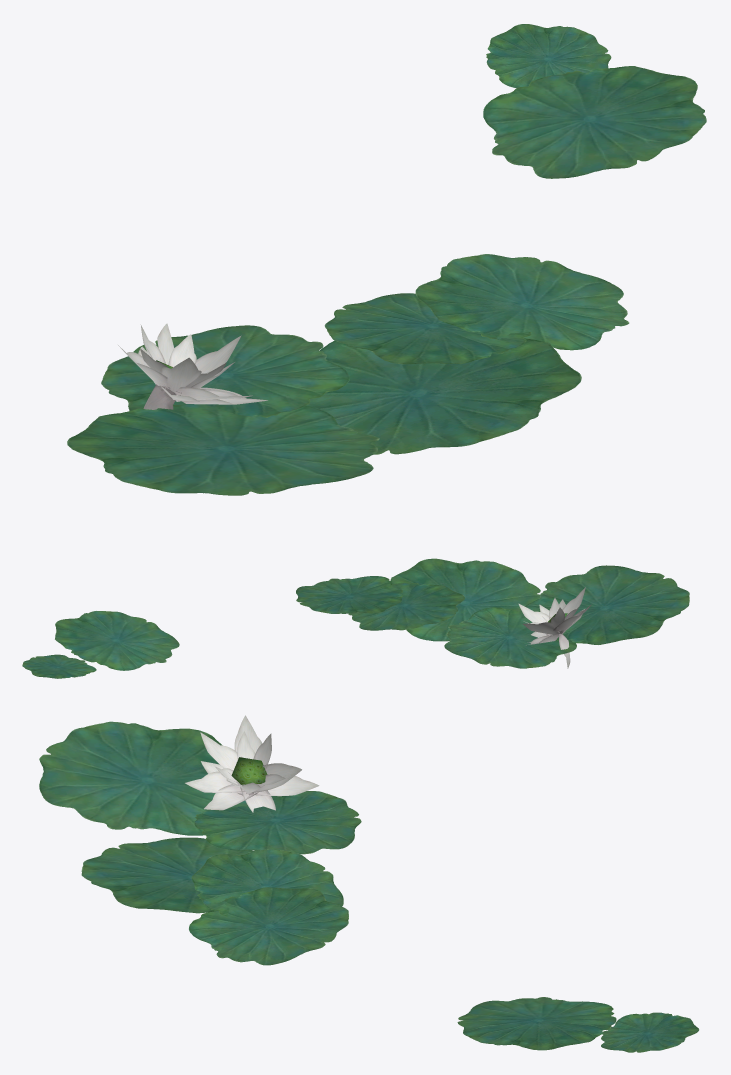
The model's file is hehua_yunmeng_07.FBX.
The picture shows the model from 3 angles, top to bottom: view 1: azimuth 30°, elevation 25°; view 2: azimuth 150°, elevation 25°; view 3: azimuth 270°, elevation 25°; orthographic projection. The views are drawn at different scales.
Visible parts, largest first — view 1: Mesh_0022; view 2: Mesh_0022; view 3: Mesh_0022.
Part boxes in pixels (left/top/right/bottom): Mesh_0022: left=67, top=24, right=706, bottom=495; Mesh_0022: left=22, top=558, right=689, bottom=678; Mesh_0022: left=39, top=715, right=699, bottom=1052.
Size of the model in its own units: 456 by 65.95 by 410.
